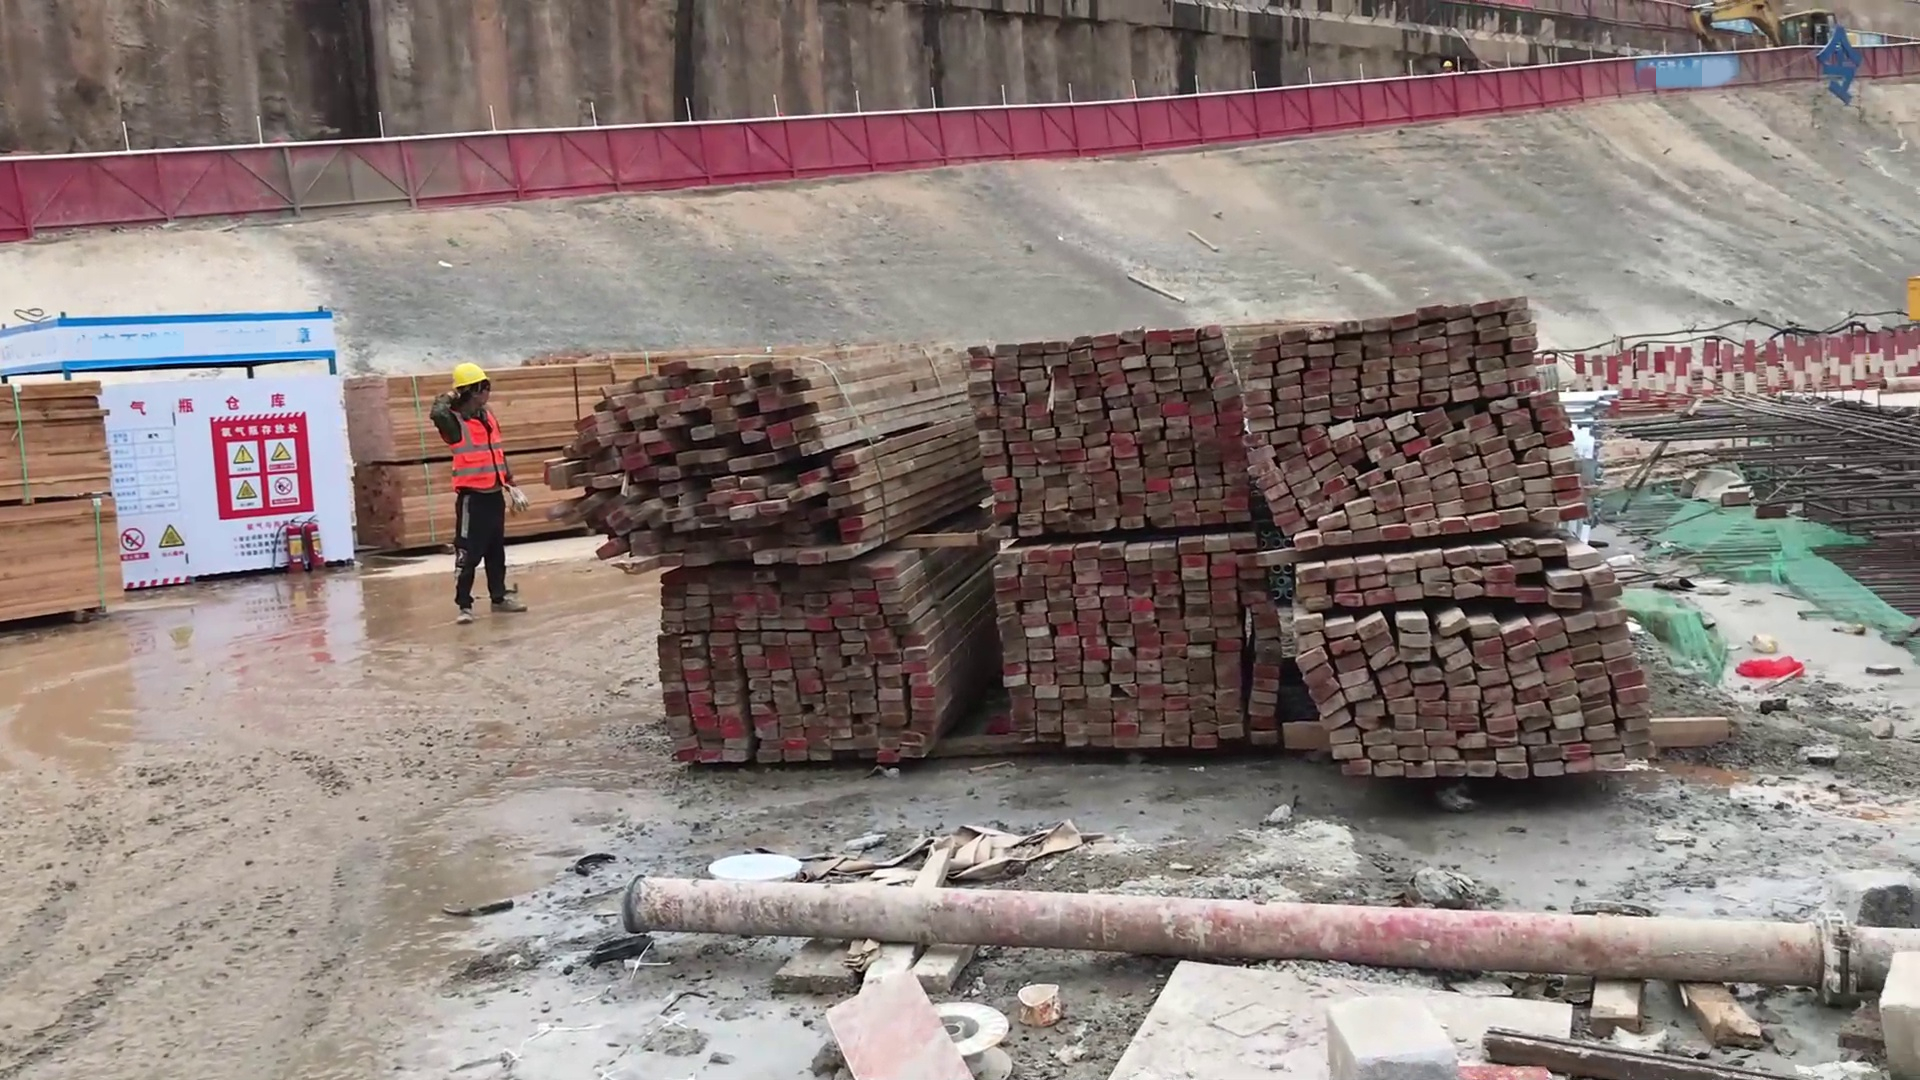fence: (5, 121, 573, 247)
helmet: (449, 362, 493, 392)
person: (427, 362, 534, 626)
slogan: (207, 405, 322, 519)
vest: (446, 408, 514, 497)
wood: (1260, 287, 1660, 813), (589, 359, 956, 797), (956, 335, 1263, 771), (341, 338, 626, 561), (4, 346, 134, 627)
